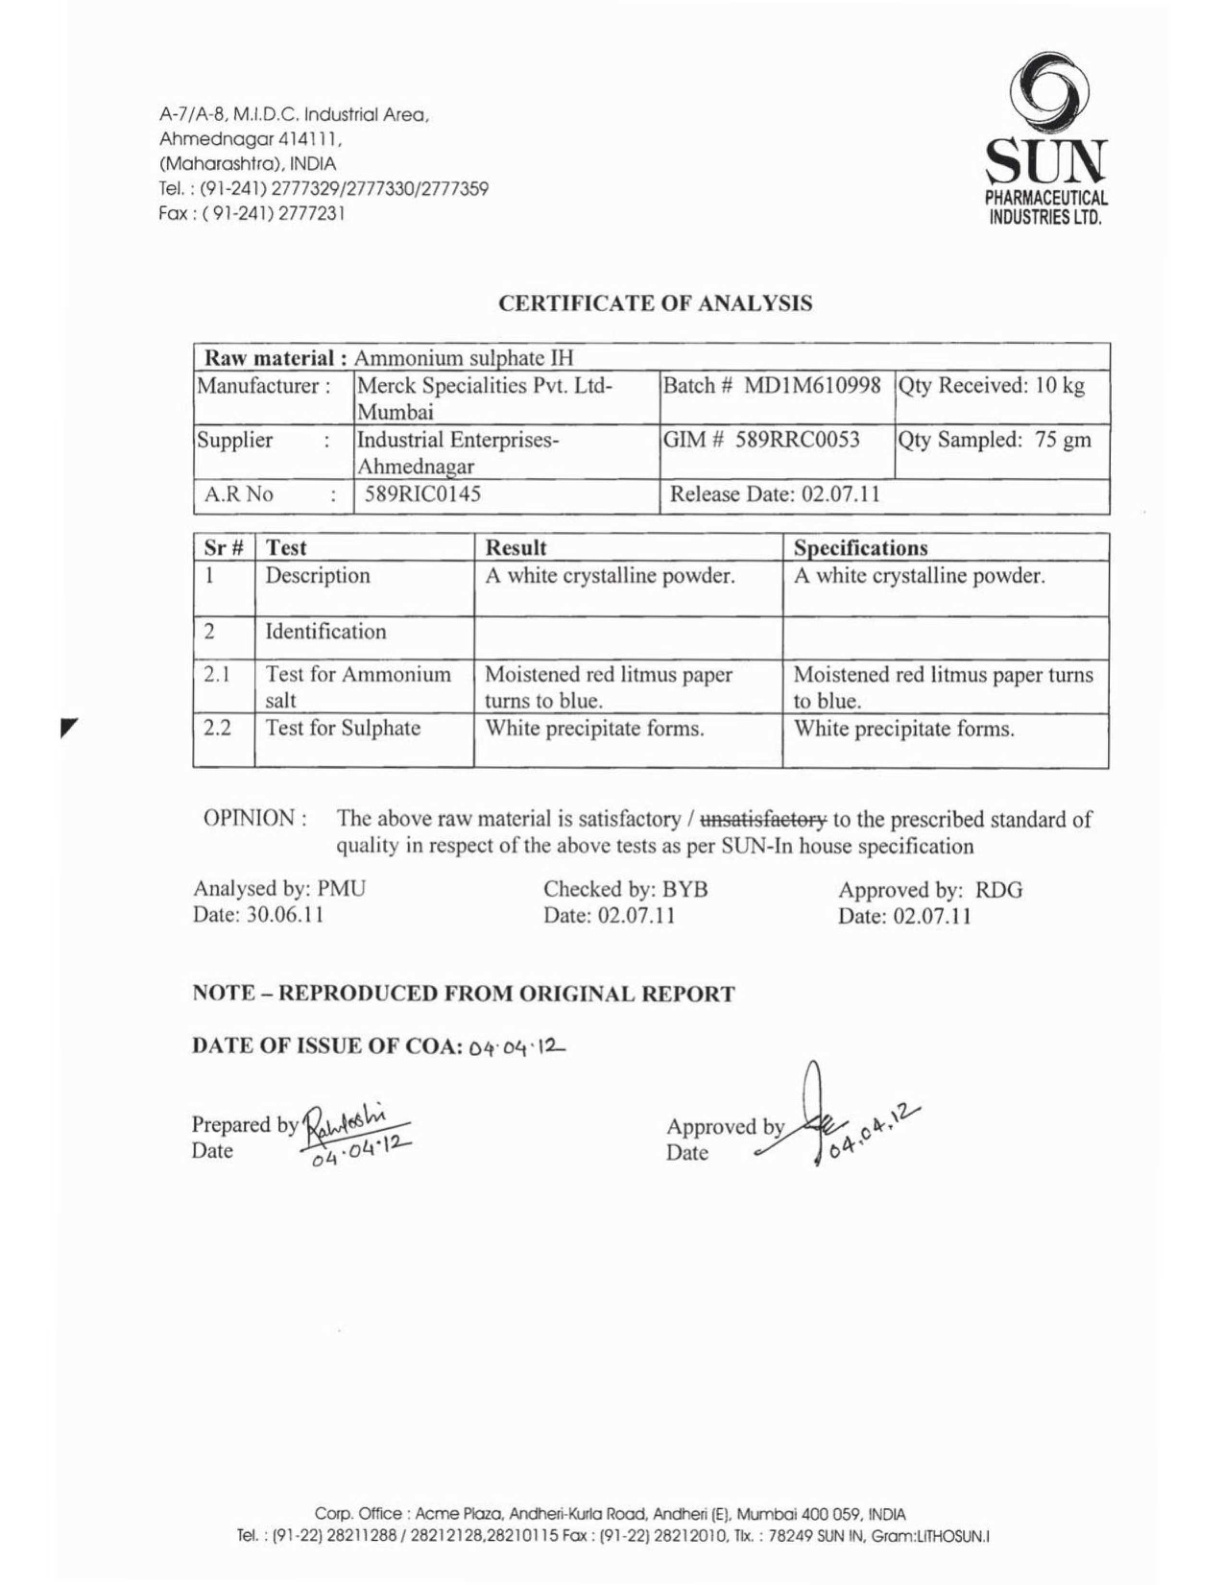full_lined: (190, 530, 1111, 770)
merged_cells: (192, 339, 1112, 518)
